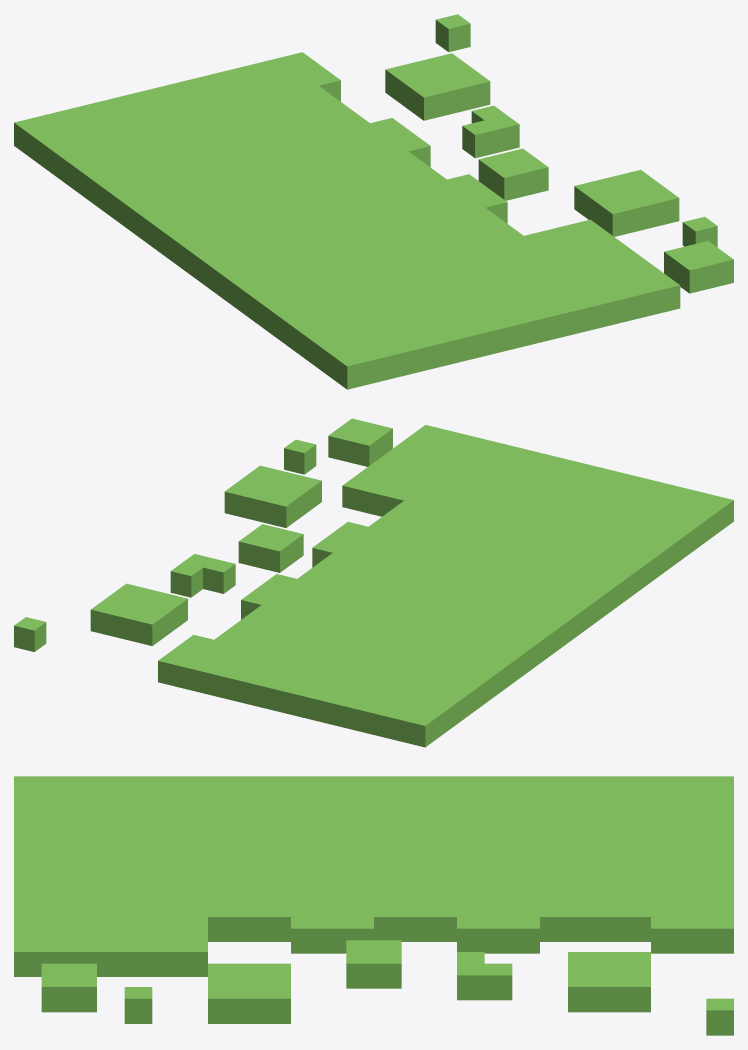
Rendered from GGJ Grass 4.obj.
The picture shows the model from 3 angles, top to bottom: view 1: azimuth 30°, elevation 25°; view 2: azimuth 150°, elevation 25°; view 3: azimuth 270°, elevation 25°; orthographic projection. The views are drawn at different scales.
Bounding box in the file's own units: 2 × 0.1 × 2.6.
1 material, 1 textured.
